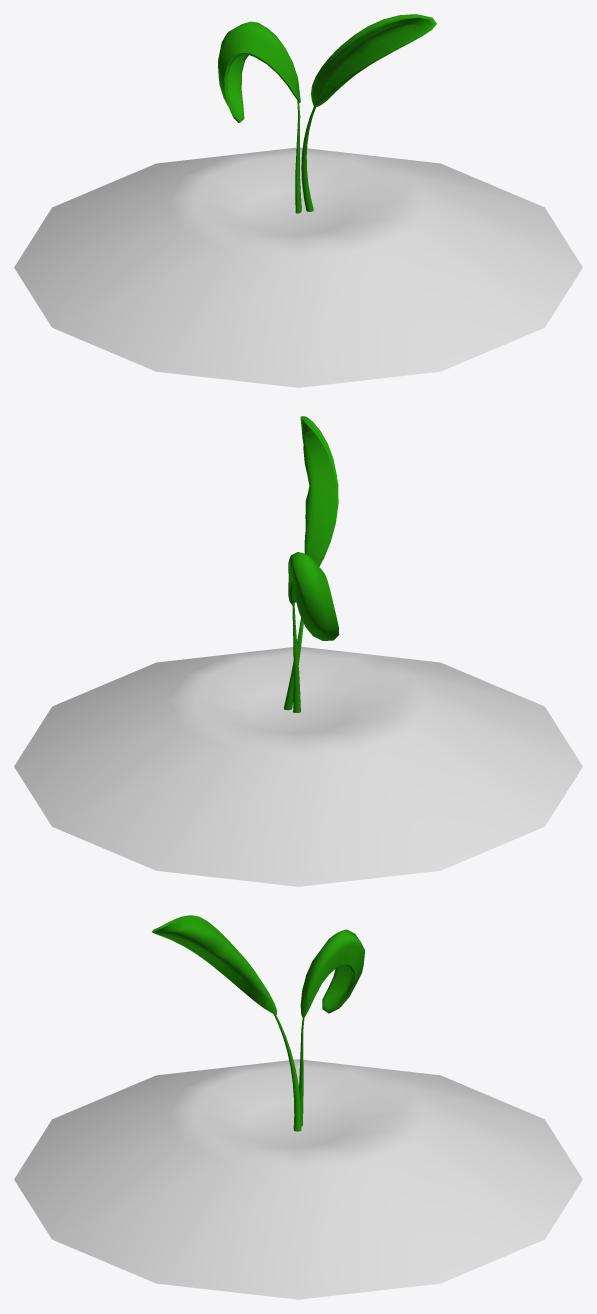
The model's file is Pumpkin_On_Dirt_PlantGrowth.FBX.
3 renders of one model, top to bottom at view 1: azimuth 30°, elevation 25°; view 2: azimuth 150°, elevation 25°; view 3: azimuth 270°, elevation 25°, orthographic.
Visible parts, largest first — view 1: Dirt_and_sproot, sprout; view 2: Dirt_and_sproot, sprout; view 3: Dirt_and_sproot, sprout.
Part boxes in pixels (bbox=[...]): Dirt_and_sproot: bbox=[14, 147, 582, 387]; sprout: bbox=[218, 14, 436, 213]; Dirt_and_sproot: bbox=[14, 646, 582, 886]; sprout: bbox=[284, 416, 339, 712]; Dirt_and_sproot: bbox=[14, 1059, 582, 1299]; sprout: bbox=[152, 915, 364, 1131].
Size of the model in its own units: 34.34 by 19.01 by 34.34.
